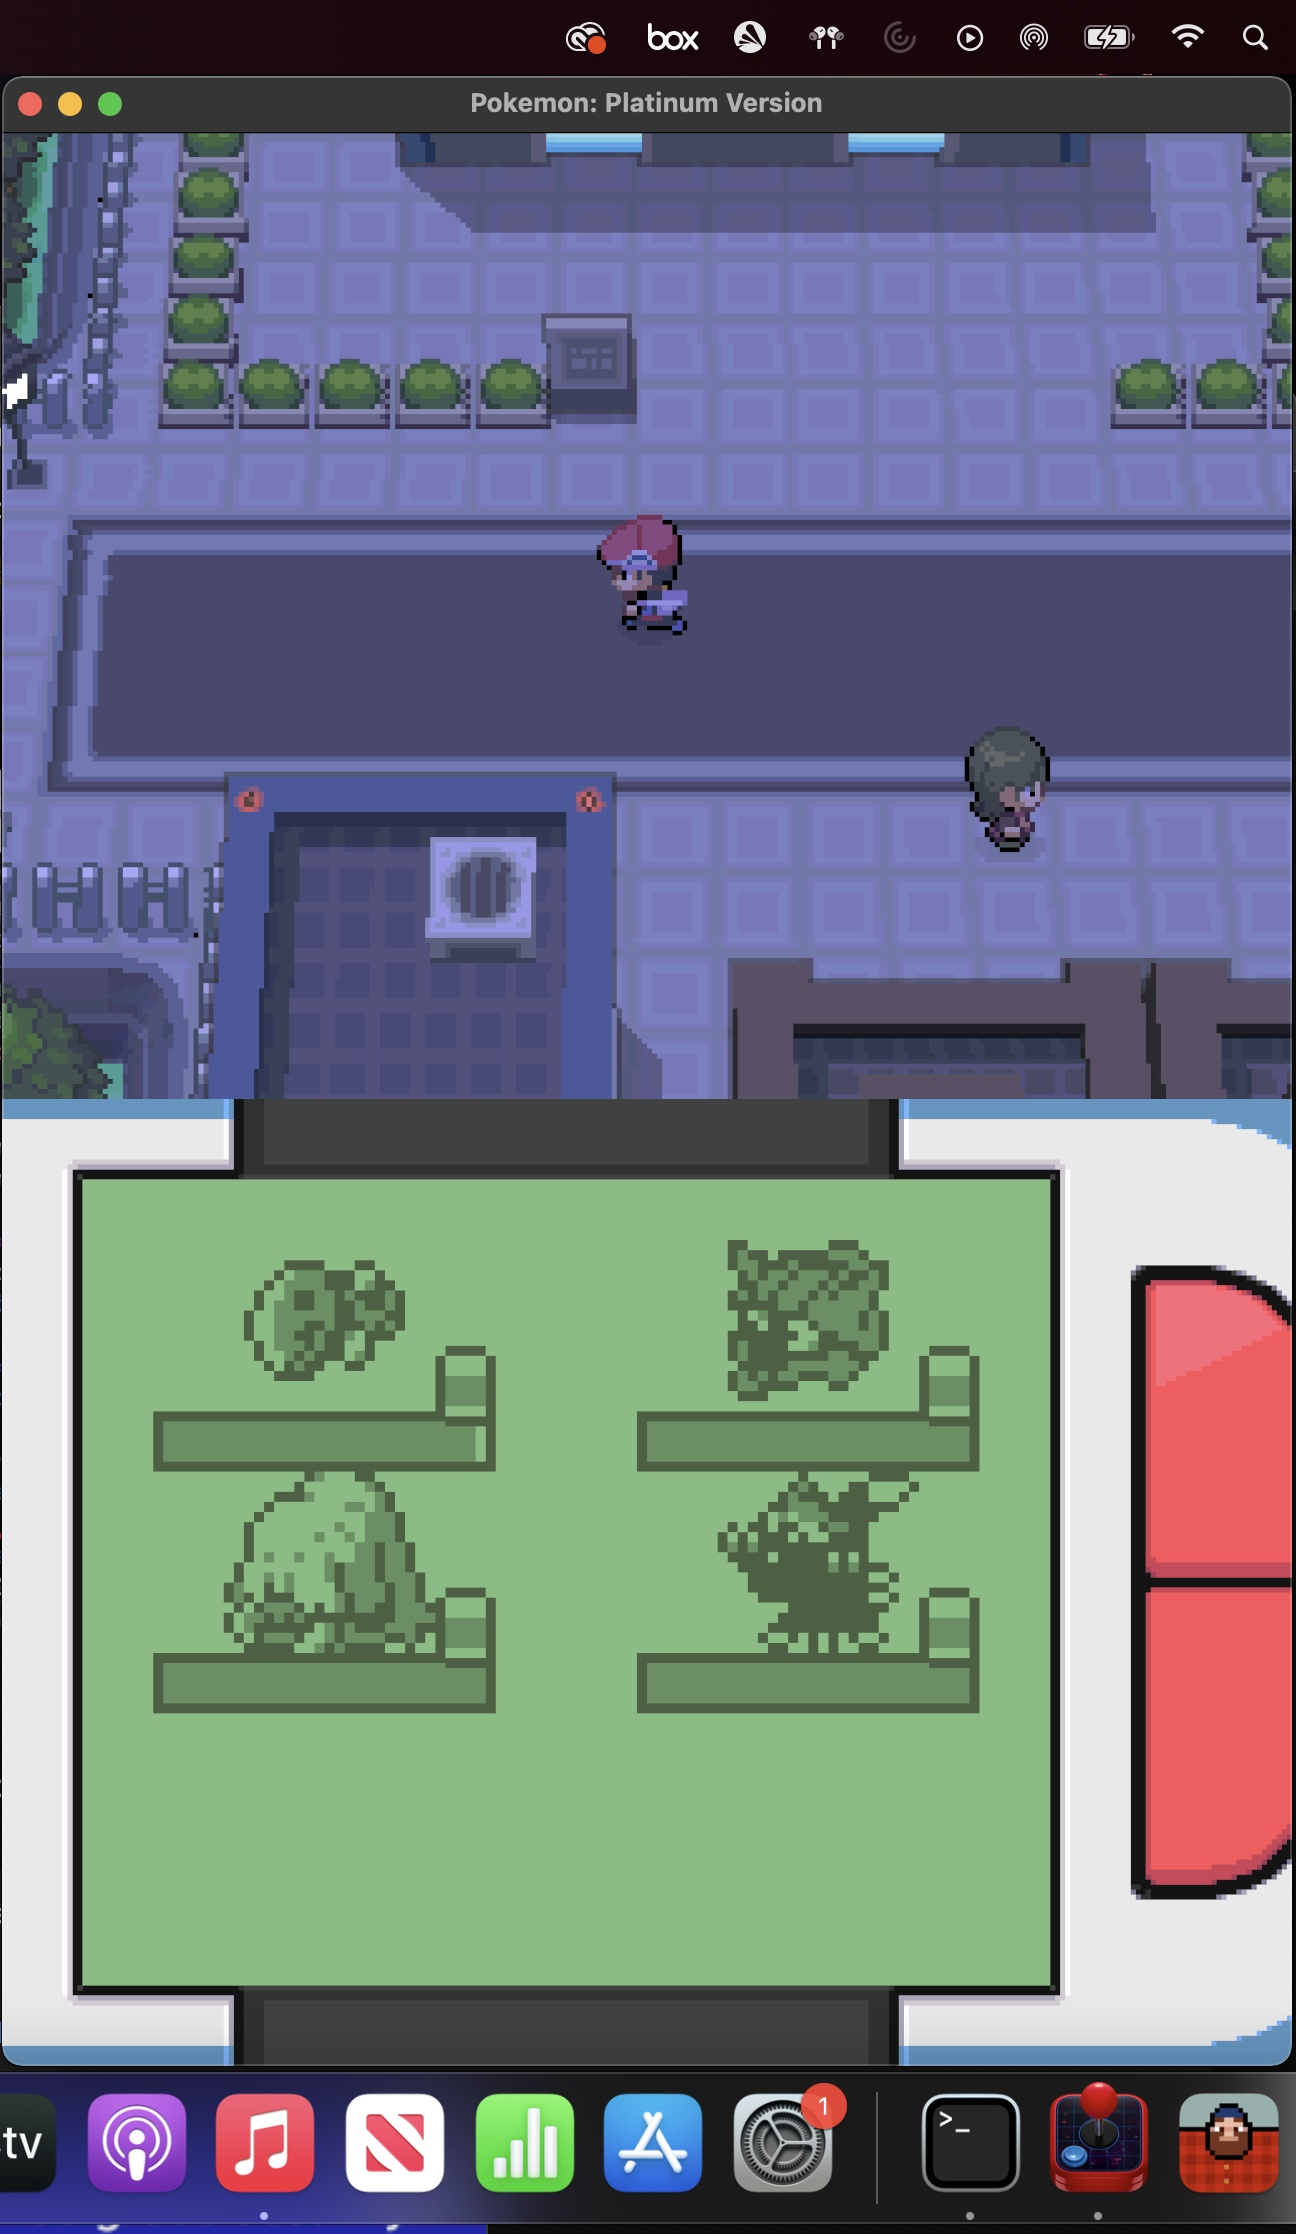player: (587, 512, 706, 646)
